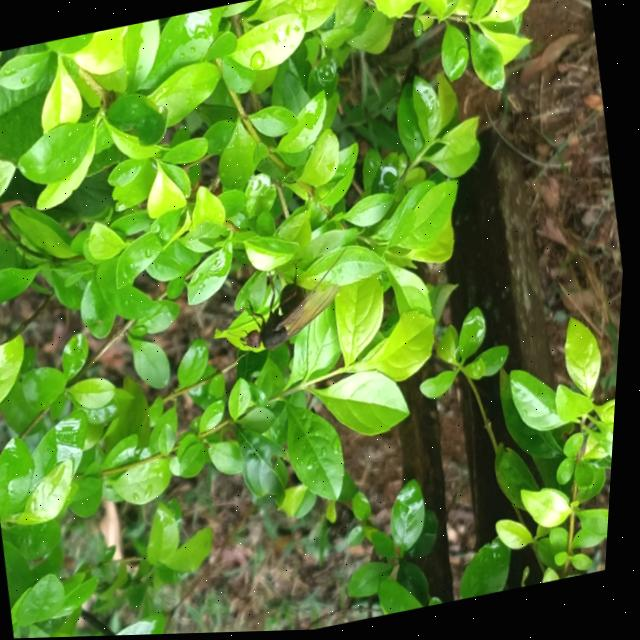Alive-Female-Alate: (220, 248, 366, 366)
